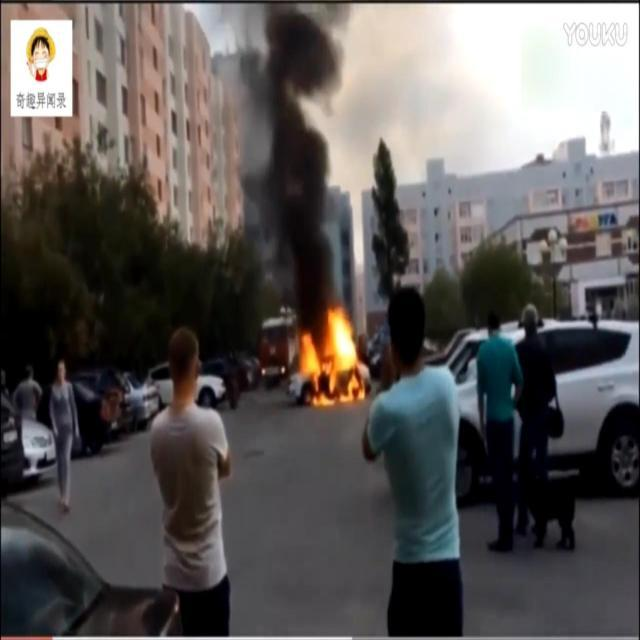Fire: (296, 303, 368, 408)
Smoke: (208, 2, 359, 346)
